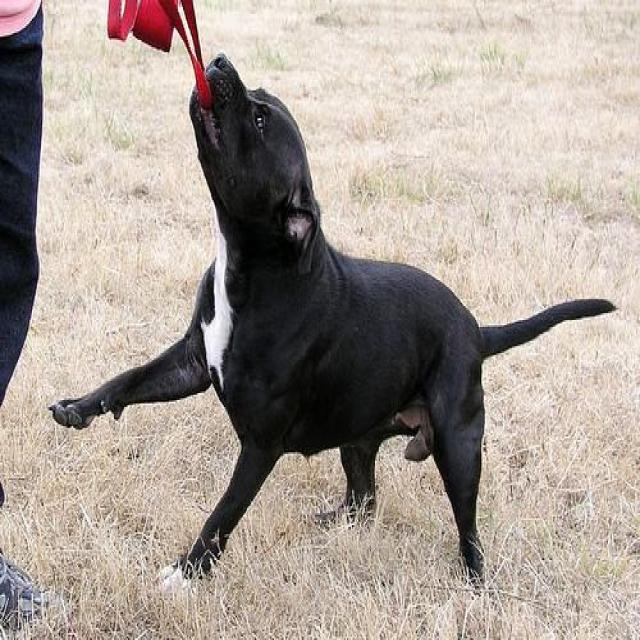staffordshire_bullterrier: (49, 54, 616, 596)
